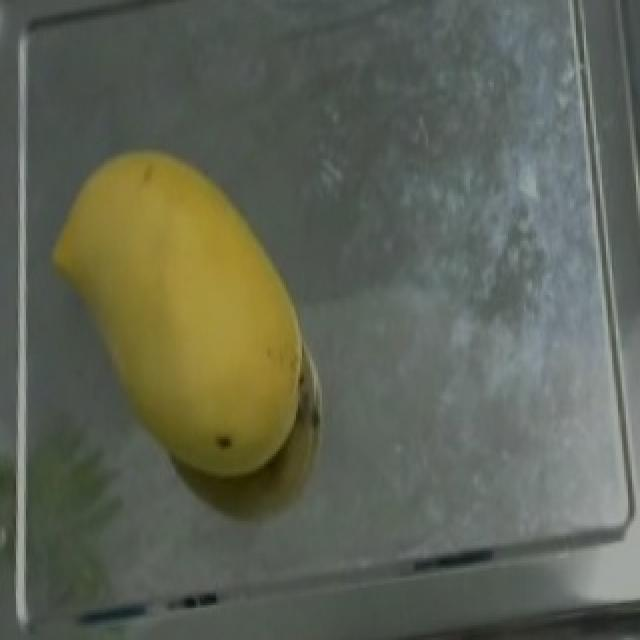fruit: (34, 139, 350, 511)
